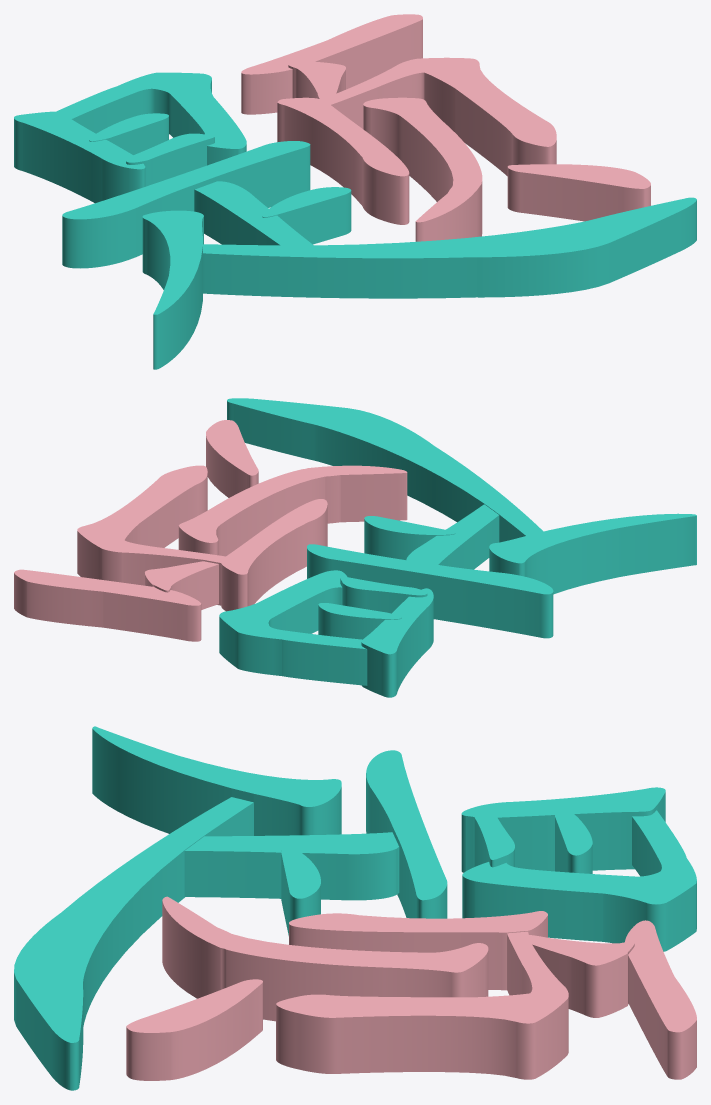
The model's file is hanzi248.fbx.
3 views of the same model, one above another, from view 1: azimuth 30°, elevation 25°; view 2: azimuth 150°, elevation 25°; view 3: azimuth 270°, elevation 25° (orthographic). The views are drawn at different scales.
Visible parts, largest first — view 1: Curve.008, Curve.012, Curve.004, Curve.013, Curve.011, Curve.001, Curve, Curve.009, Curve.007, Curve.014, Curve.005, Curve.006 (+3 smaller); view 2: Curve.008, Curve.007, Curve.013, Curve.001, Curve.004, Curve.012, Curve.009, Curve.011, Curve, Curve.005, Curve.014, Curve.006 (+3 smaller); view 3: Curve.012, Curve.008, Curve.013, Curve.001, Curve.007, Curve.005, Curve.014, Curve, Curve.011, Curve.004, Curve.009, Curve.010 (+3 smaller).
Part boxes in pixels (x1,y1,x2,y2): Curve.008: (203,197,696,298); Curve.012: (319,57,556,176); Curve.004: (62,141,310,268); Curve.013: (363,97,482,241); Curve.011: (277,97,409,224); Curve.001: (56,72,246,165); Curve: (14,111,145,203); Curve.009: (241,14,422,114); Curve.007: (142,210,203,369); Curve.014: (507,164,650,221); Curve.005: (194,181,313,245); Curve.006: (262,187,351,244); Curve.008: (227,398,543,542); Curve.007: (489,513,696,594); Curve.013: (178,465,407,556); Curve.001: (219,570,367,685); Curve.004: (307,544,553,638); Curve.012: (77,465,225,605); Curve.009: (14,569,201,641); Curve.011: (221,499,327,611); Curve: (361,588,433,697); Curve.005: (406,504,499,569); Curve.014: (206,420,258,497); Curve.006: (364,516,455,559); Curve.012: (276,931,568,1079); Curve.008: (14,797,253,1090); Curve.013: (162,896,488,1021); Curve.001: (462,810,696,951); Curve.007: (92,726,341,835); Curve.005: (184,832,399,900); Curve.014: (126,979,262,1080); Curve: (461,787,665,872); Curve.011: (289,911,547,990); Curve.004: (366,750,447,918); Curve.009: (625,920,696,1079); Curve.010: (529,935,634,1017).
Bounding box in the file's own units: 24.04 × 22.54 × 2.36.
